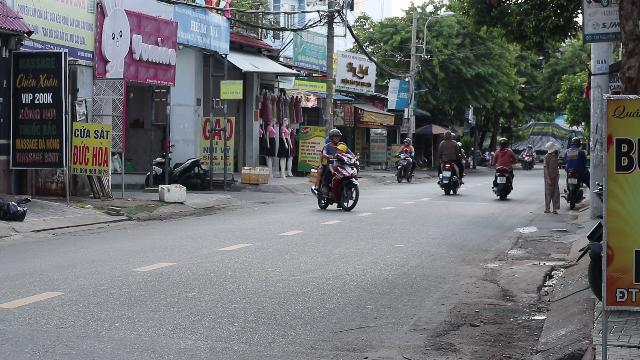helmet: (328, 128, 342, 142)
motorcyclist: (308, 127, 362, 212)
nohelmet: (334, 144, 348, 156)
